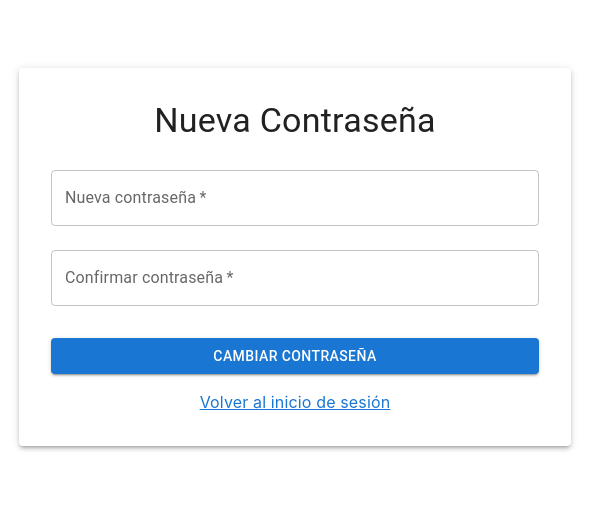
Test: ResetPage › con token › muestra error si las contraseñas no coinciden
The width and height of the screenshot is (591, 519).
Step 1. Type "123456" into the password field labelled "Nueva contraseña *" → (295, 198), box [51,170,539,226]
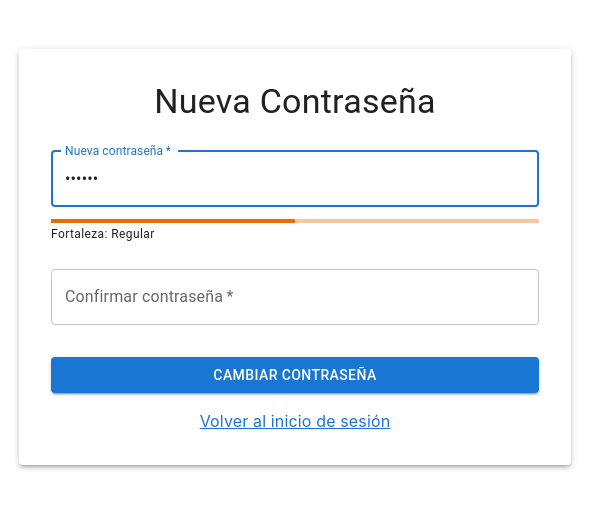
Step 2. Type "654321" into the password field labelled "Confirmar contraseña *" → (295, 297), box [51,269,539,325]
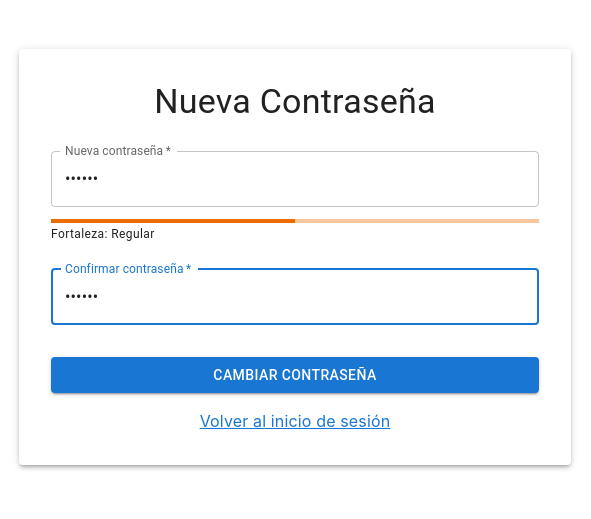
Step 3. Click the button "Cambiar contraseña" → (295, 375), box [51,357,539,393]
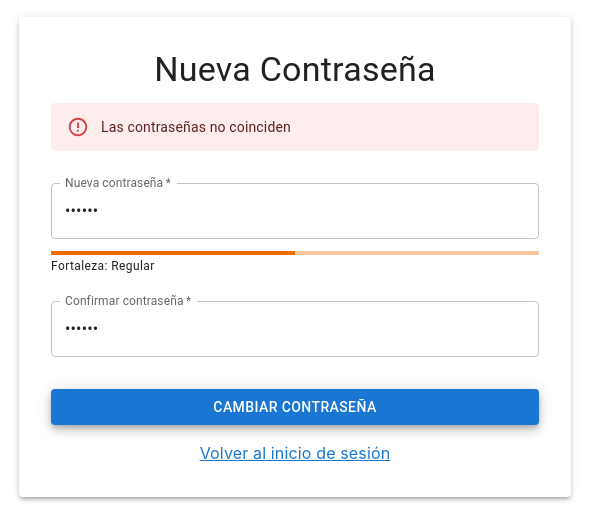
Expected: the text "Las contraseñas no coinciden" is shown, [101,119,291,135]
